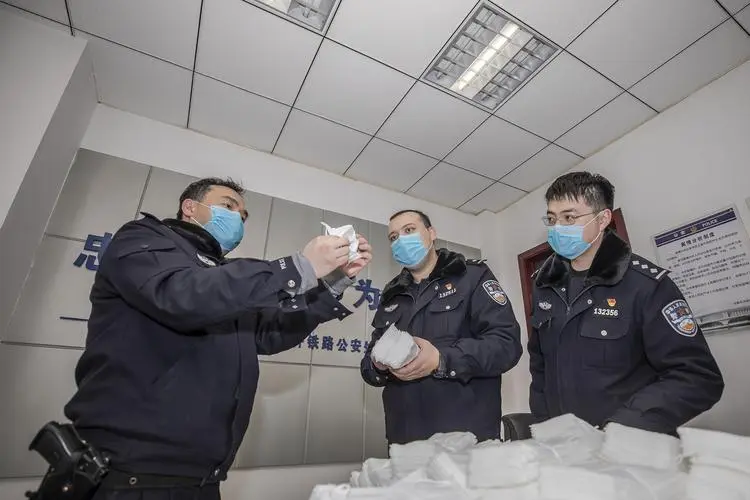withmask: (167, 162, 261, 260), (536, 174, 624, 268), (381, 202, 445, 279)
